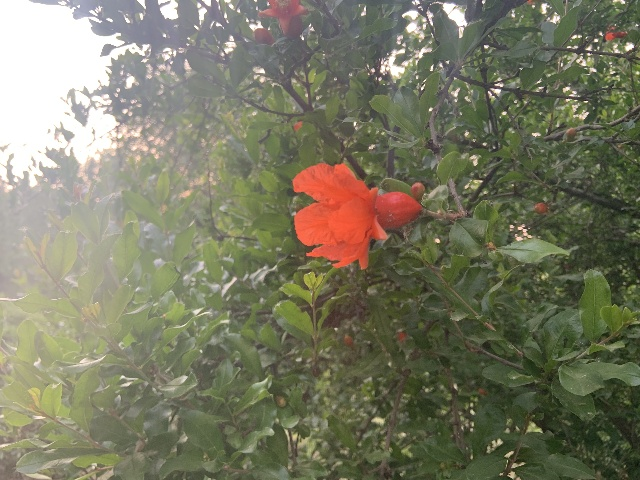bud: (410, 181, 424, 200), (533, 203, 547, 214)
flower: (292, 162, 422, 270), (257, 0, 308, 40), (604, 24, 627, 40)
